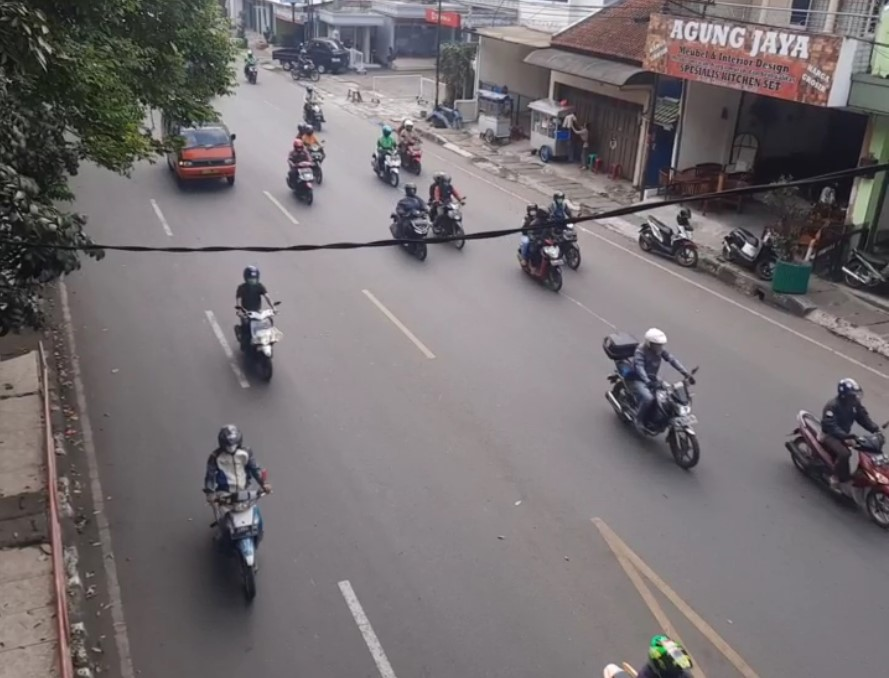motor: (190, 424, 288, 600), (784, 374, 889, 532), (598, 319, 704, 474), (229, 264, 288, 386), (511, 209, 563, 292), (391, 183, 432, 269), (427, 175, 471, 252), (548, 190, 587, 263), (277, 139, 316, 202), (369, 125, 402, 187), (394, 122, 428, 174), (299, 125, 330, 173)
